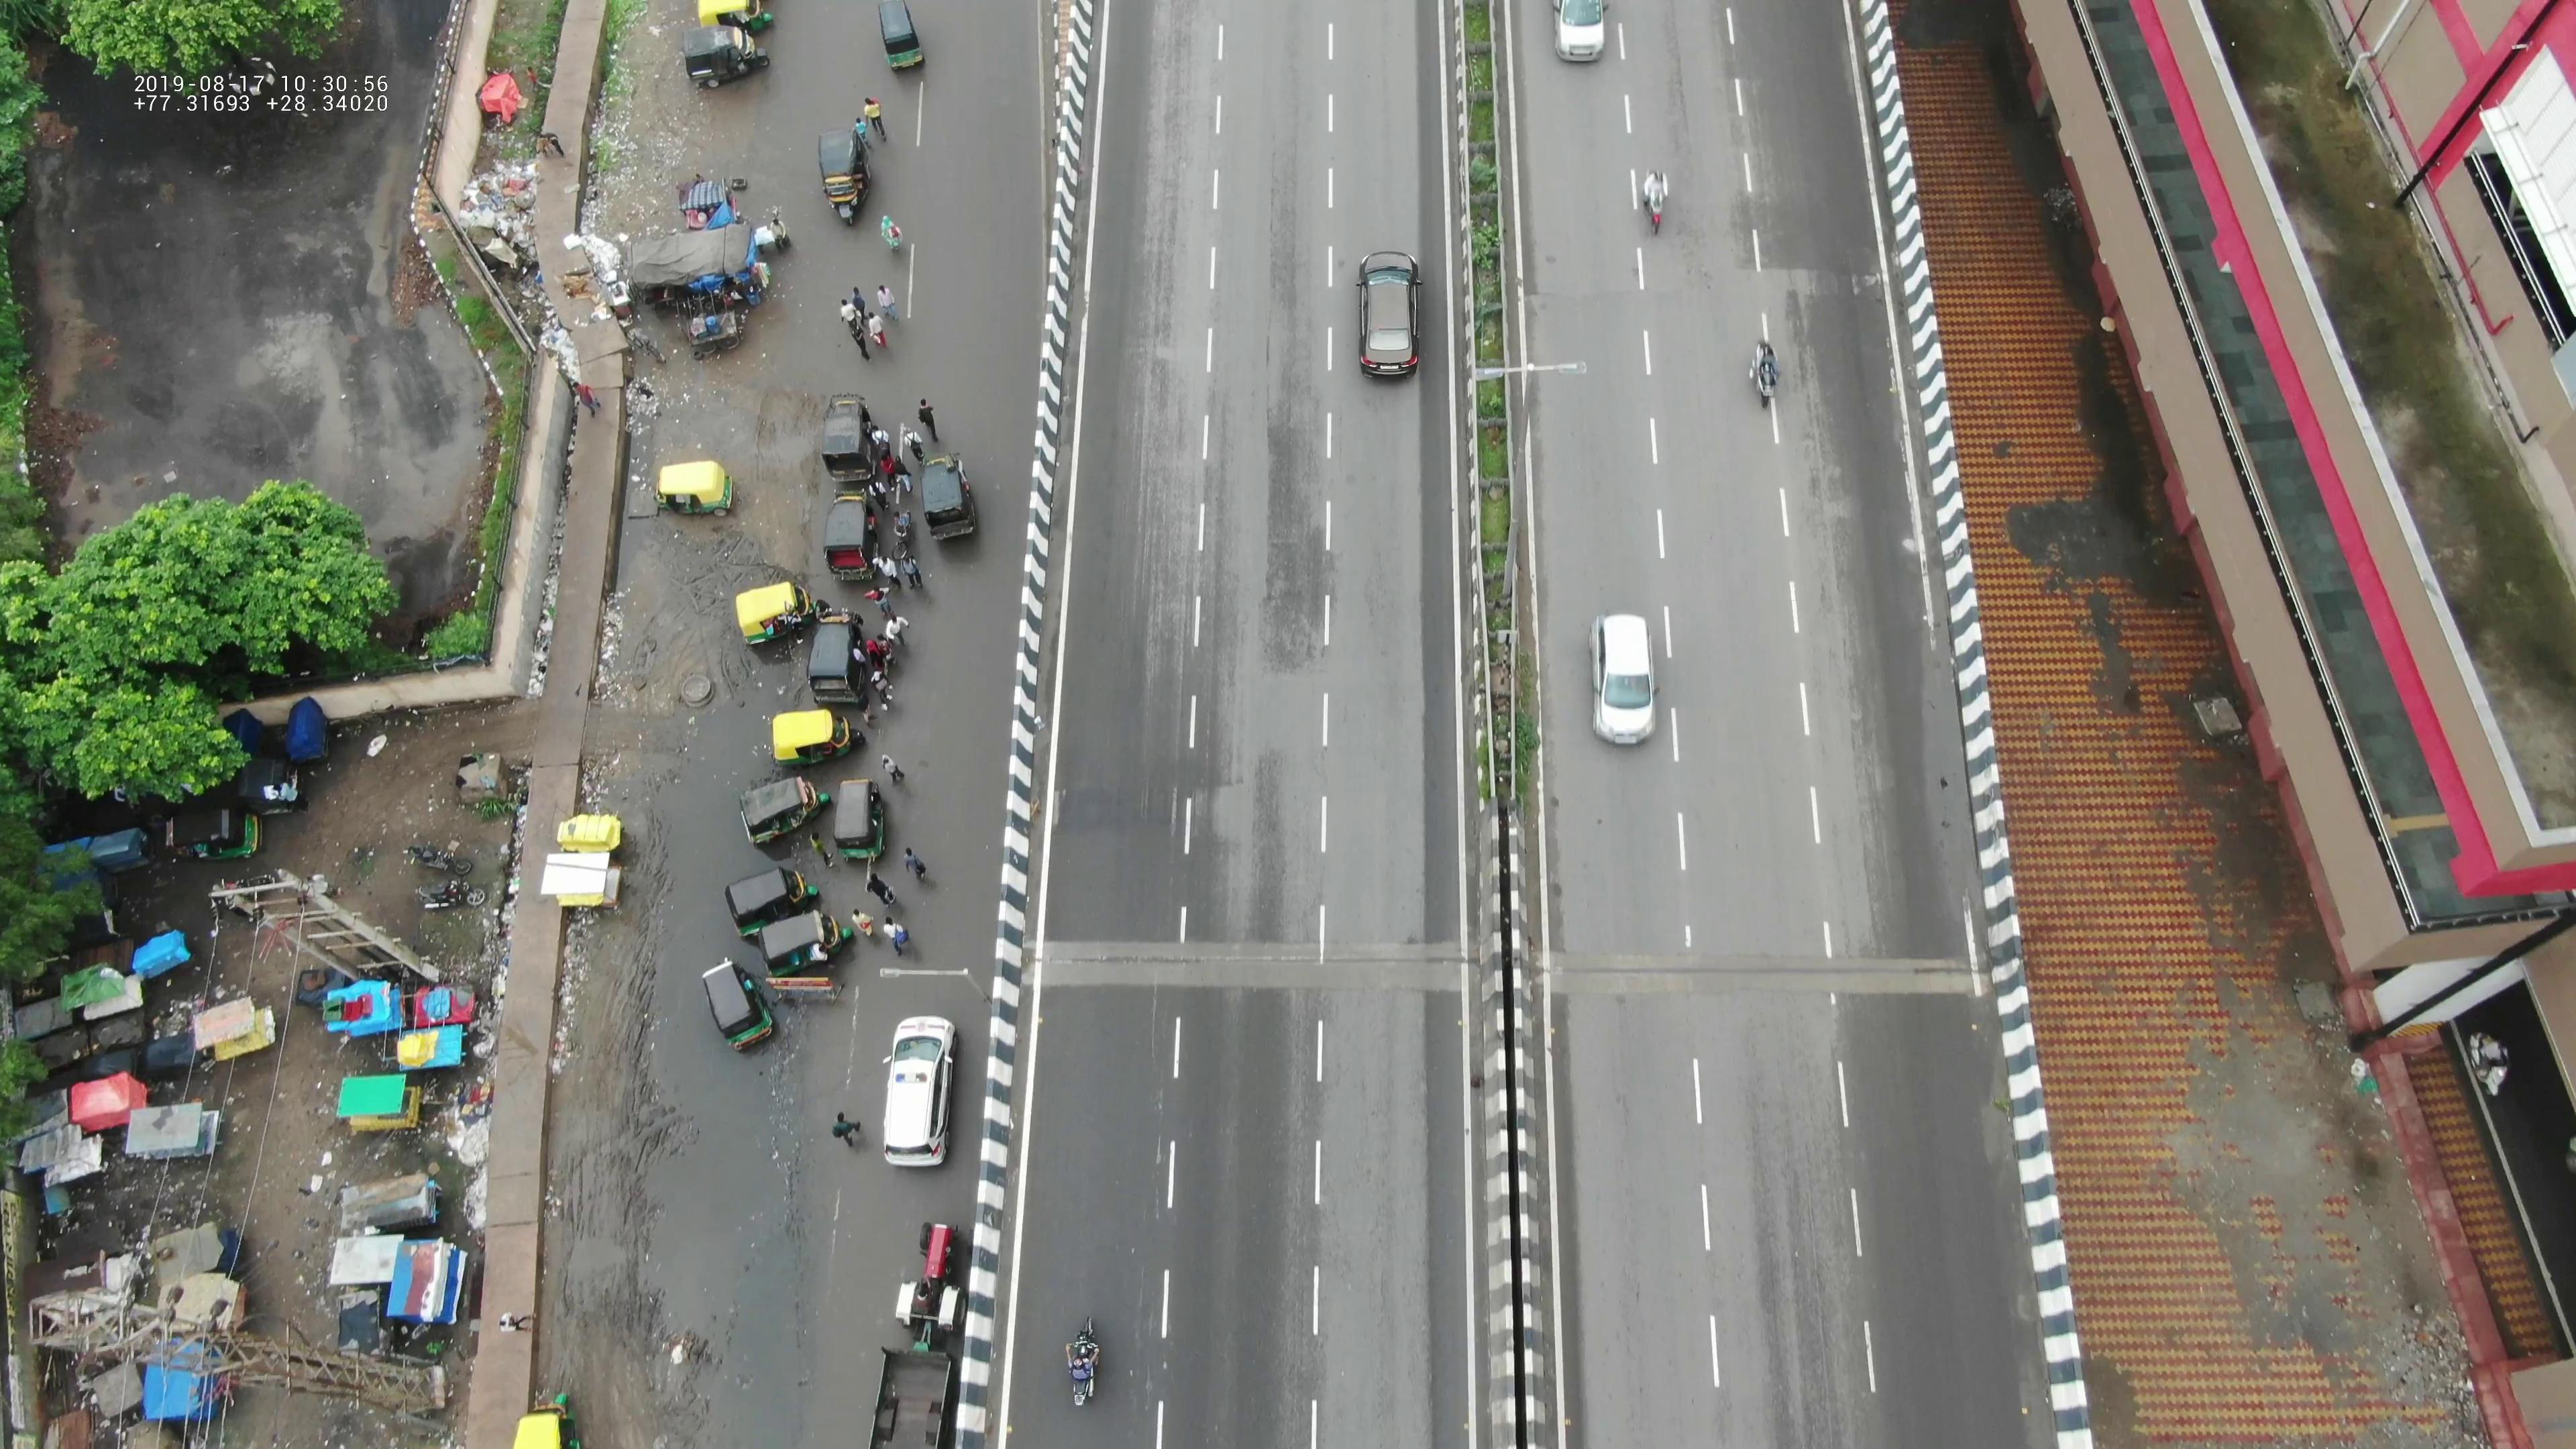Road_side_garbage: (448, 161, 671, 333)
Waterlogging: (621, 667, 846, 1336)
